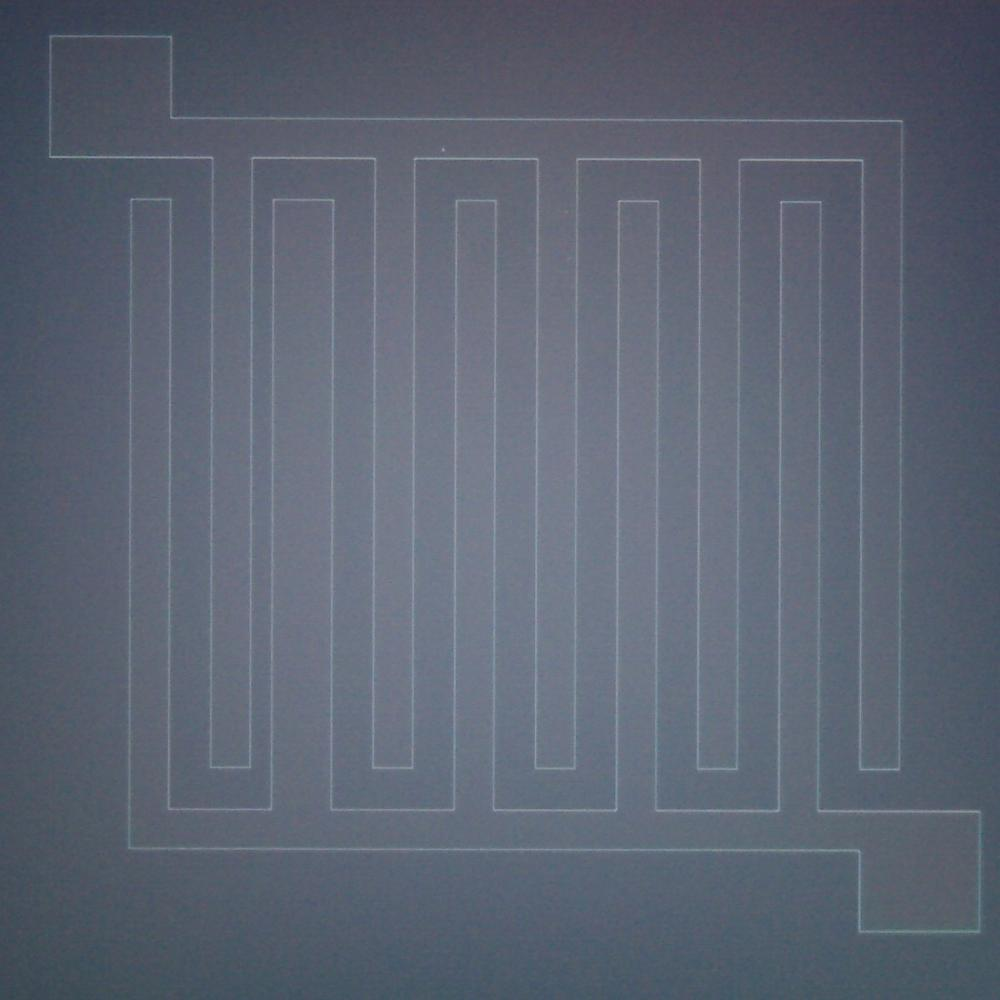fat circuit: (256, 188, 348, 824)
